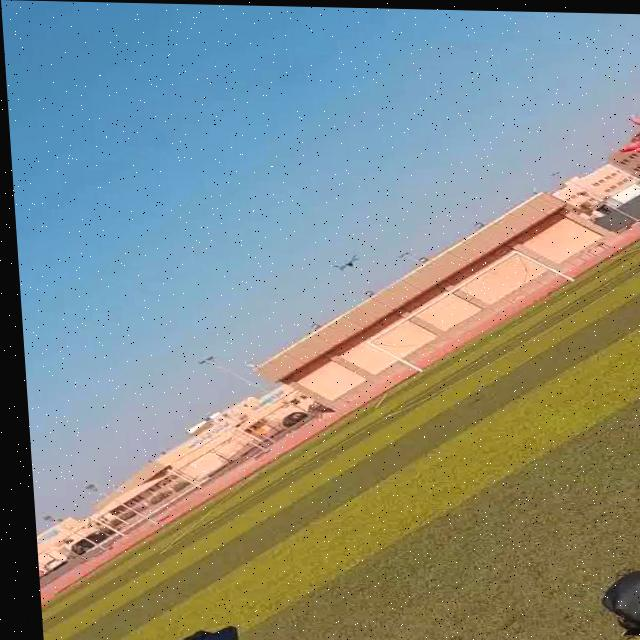drone: (312, 245, 355, 274)
